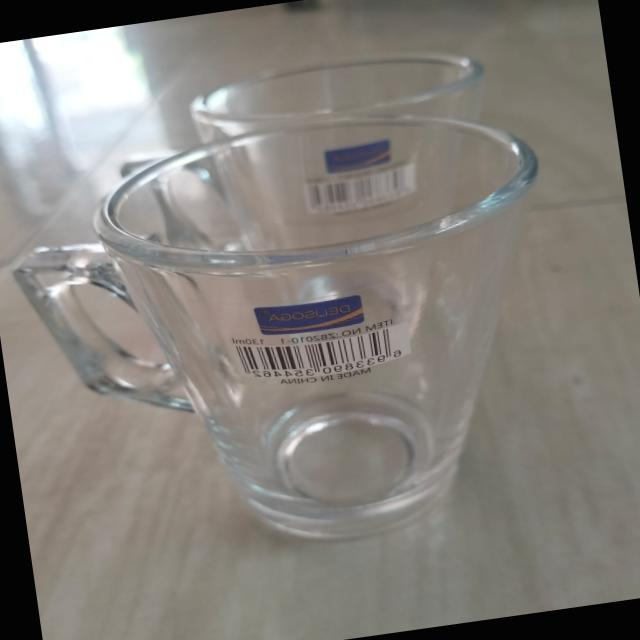glass-VX4N: (0, 84, 590, 586), (206, 31, 526, 378)
